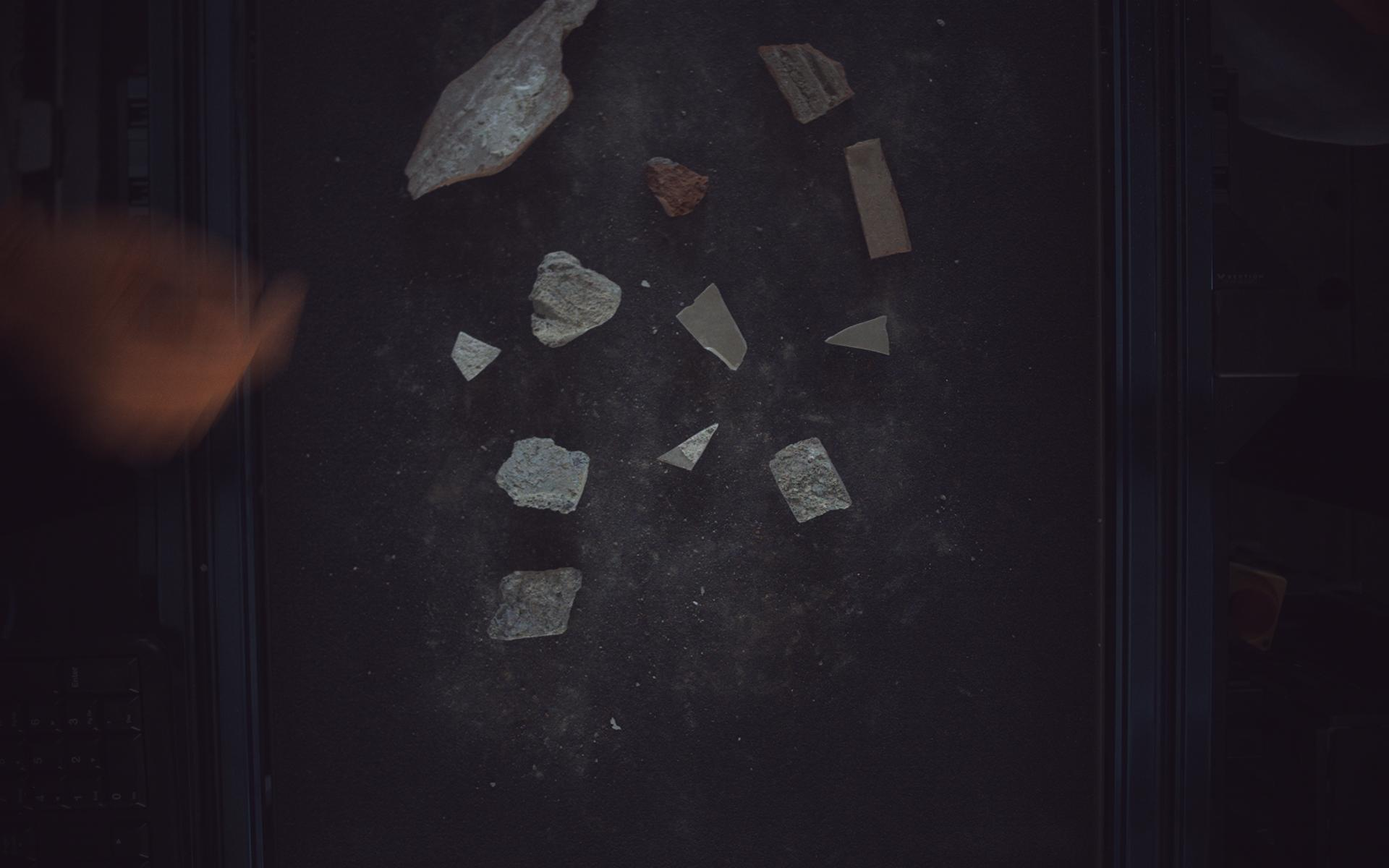brick: (405, 1, 597, 198), (847, 137, 913, 258), (760, 42, 855, 122), (646, 156, 709, 216)
concrete: (530, 250, 622, 347), (496, 437, 589, 514), (770, 438, 853, 523), (488, 568, 582, 641)
tile: (677, 283, 748, 370), (659, 424, 720, 471), (827, 315, 891, 354), (451, 331, 501, 380)
